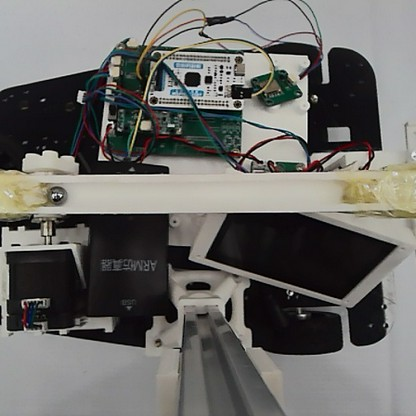ironball: (46, 183, 67, 206)
